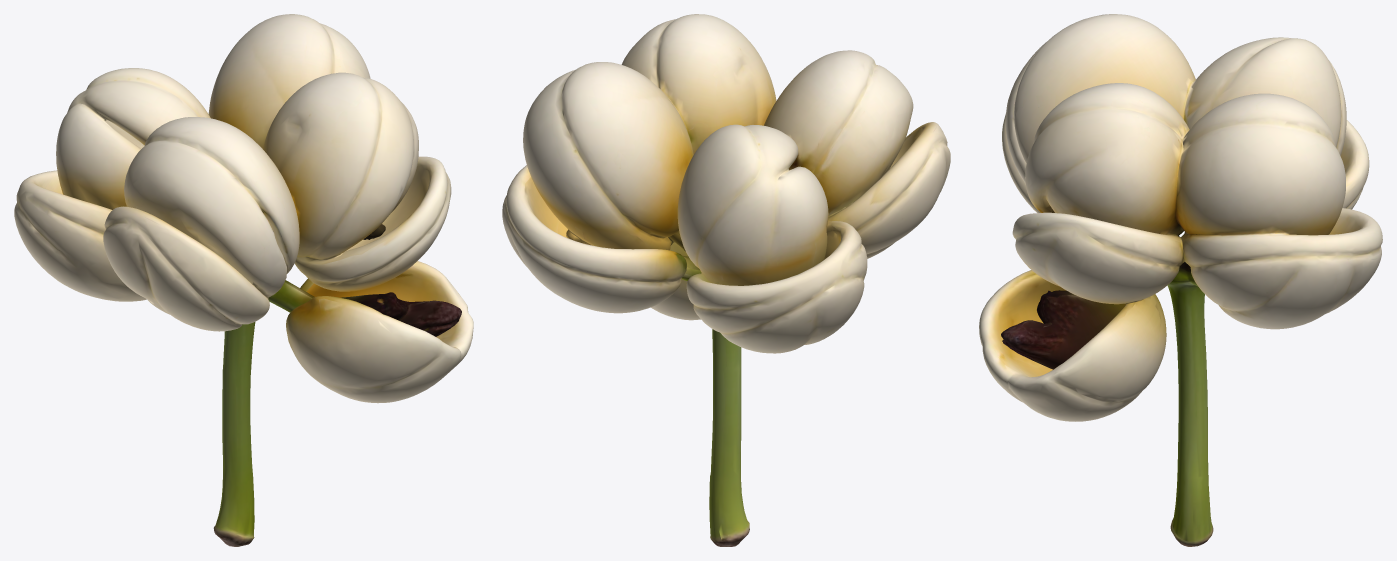
File: baikou.glb
The picture shows the model from 3 angles, left to right: view 1: azimuth 30°, elevation 25°; view 2: azimuth 150°, elevation 25°; view 3: azimuth 270°, elevation 25°; orthographic projection. The views are drawn at different scales.
Parts seen in each view (by area): view 1: node_0; view 2: node_0; view 3: node_0.
Boxes of the visible parts, bbox=[...] form: node_0: bbox=[14, 14, 473, 546]; node_0: bbox=[502, 14, 950, 546]; node_0: bbox=[979, 14, 1382, 546].
Bounding box in the file's own units: 0.7718 × 1.04 × 0.7726.
1 material, 1 textured.
